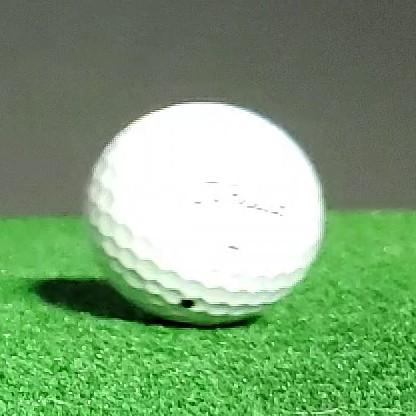golfball: (85, 102, 324, 327)
